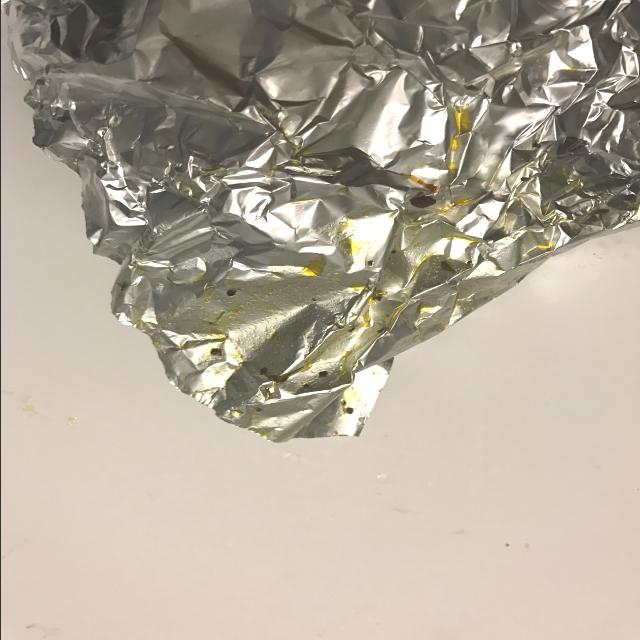Metal: (0, 0, 640, 445)
